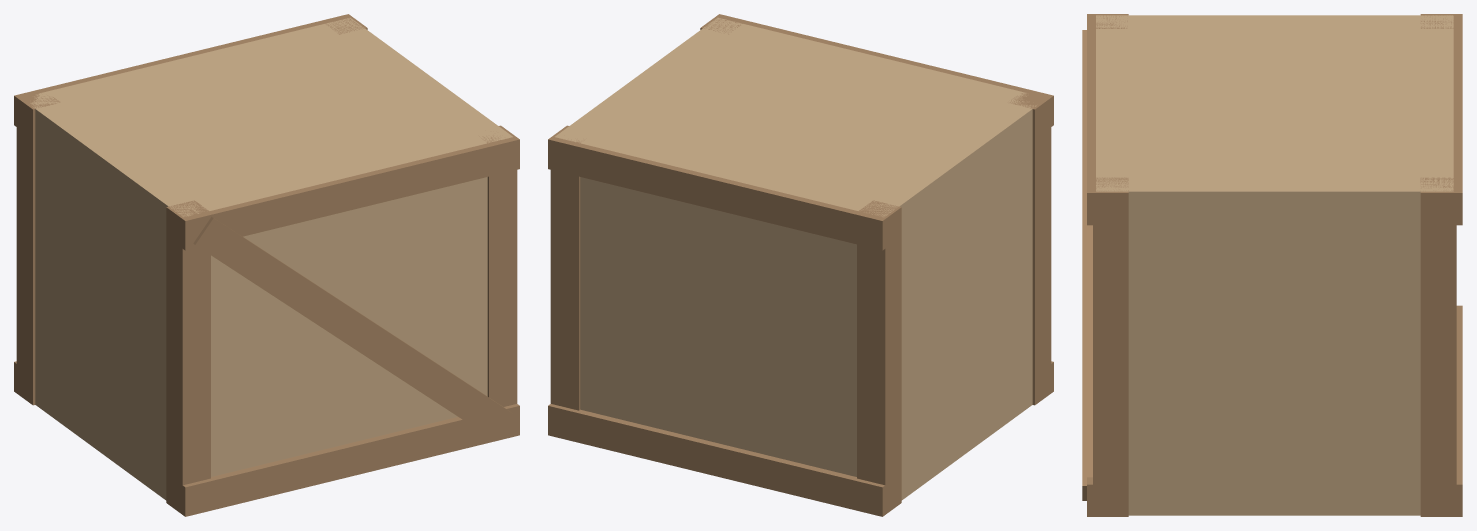
The model's file is SM_Crate.glb.
3 renders of one model, left to right at view 1: azimuth 30°, elevation 25°; view 2: azimuth 150°, elevation 25°; view 3: azimuth 270°, elevation 25°, orthographic. The views are drawn at different scales.
Visible parts, largest first — view 1: SM_Crate; view 2: SM_Crate; view 3: SM_Crate.
Part boxes in pixels (left/top/right/bottom): SM_Crate: left=14, top=14, right=519, bottom=516; SM_Crate: left=548, top=14, right=1053, bottom=516; SM_Crate: left=1082, top=14, right=1462, bottom=516.
Bounding box in the file's own units: 0.71 × 0.6 × 0.6375.
